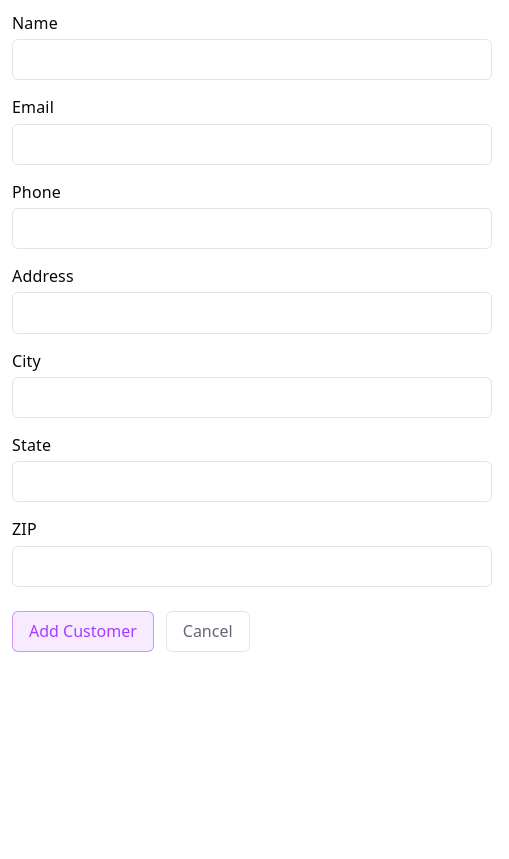
Test case: CustomerForm › shows errors for required fields when submitting an empty form
The image size is (509, 859).
Click the button "Add Customer" at (83, 631), box [12,611,154,652]
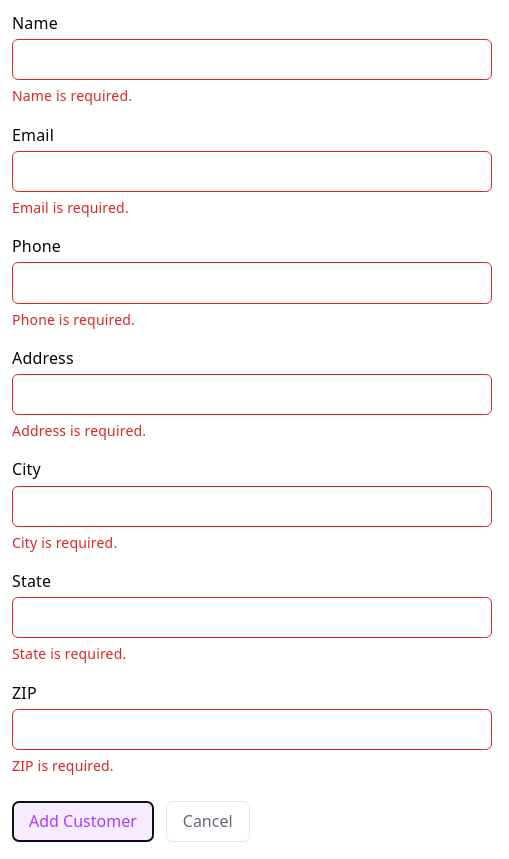
Expected: the text "Name is required." is shown, [12,86,132,105]
Expected: the text "Email is required." is shown, [12,198,129,217]
Expected: the text "Phone is required." is shown, [12,310,135,329]
